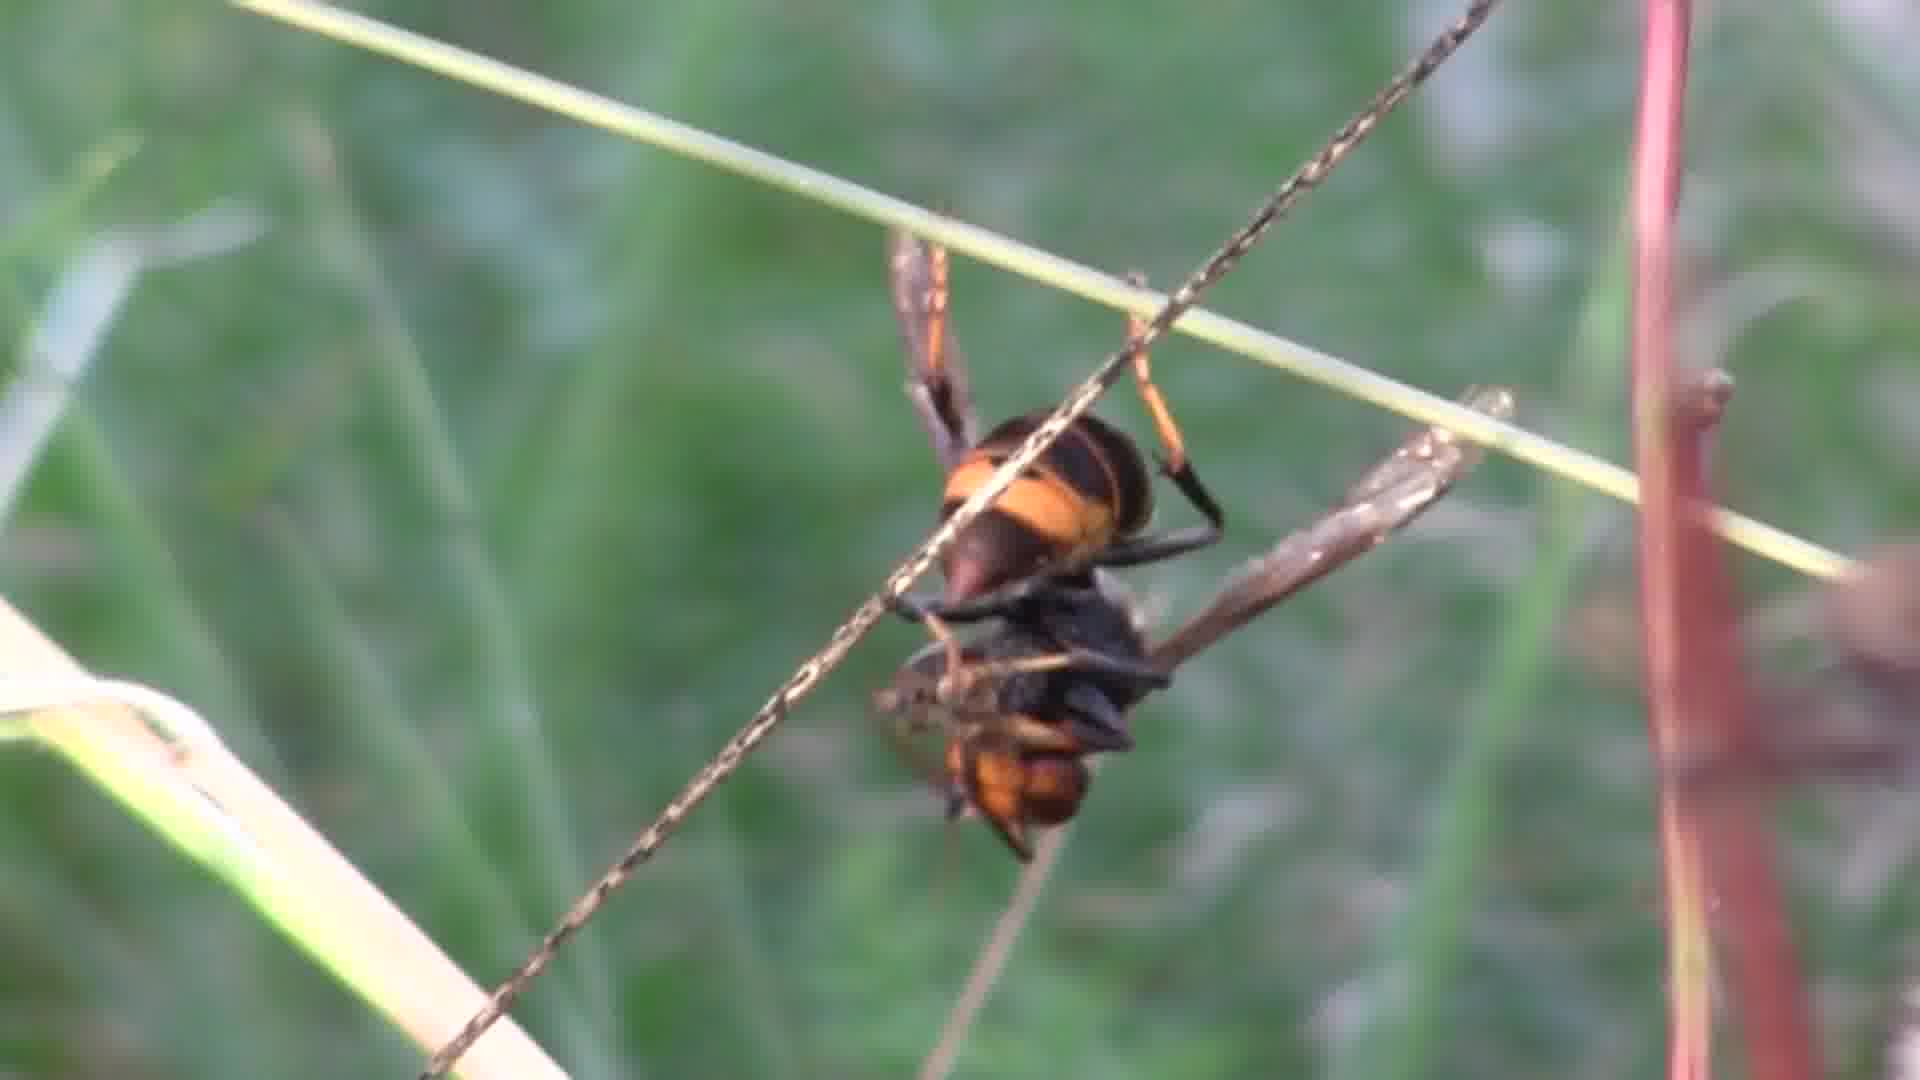hornet: (825, 268, 1274, 870)
